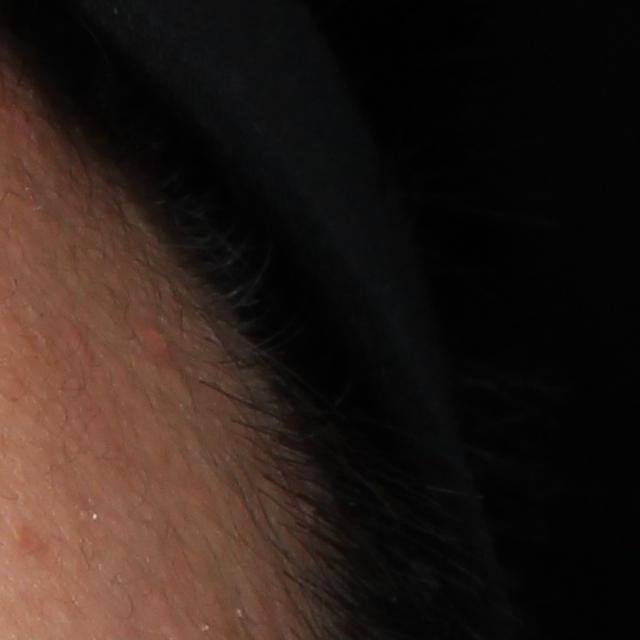papule: (139, 323, 171, 358)
